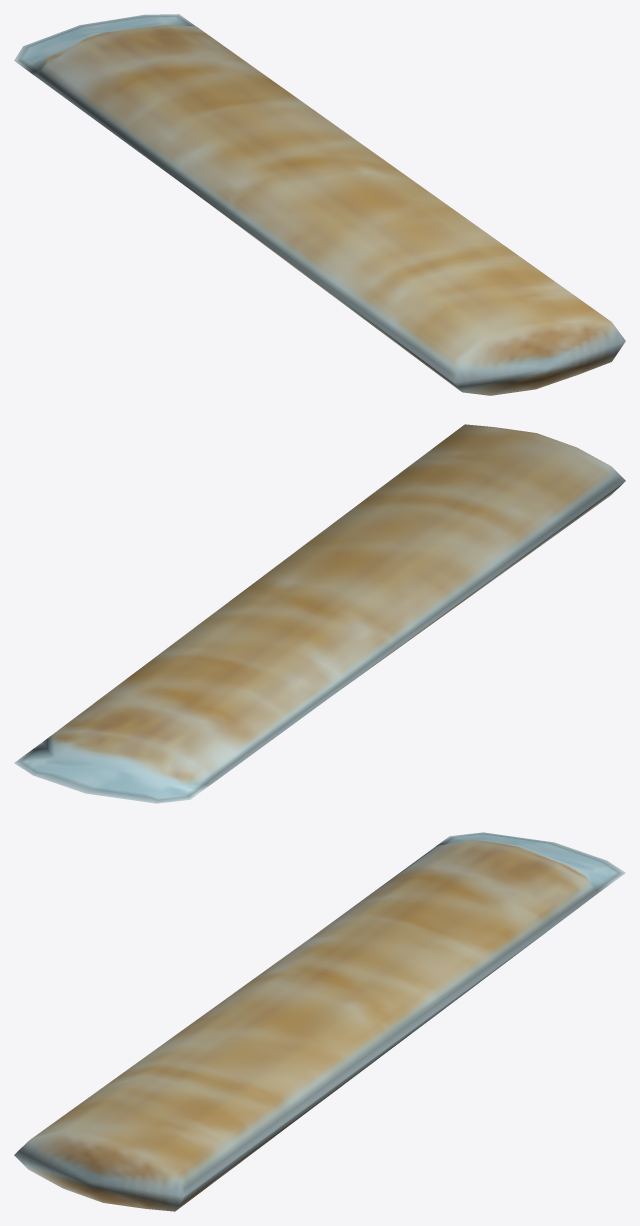
File: jsf_Elasticcord_Set.fbx
3 views of the same model, one above another, from view 1: azimuth 30°, elevation 25°; view 2: azimuth 150°, elevation 25°; view 3: azimuth 330°, elevation 25° (orthographic).
Visible parts, largest first — view 1: jsf_Elasticcord_Set; view 2: jsf_Elasticcord_Set; view 3: jsf_Elasticcord_Set.
Boxes of the visible parts, x1=… form: jsf_Elasticcord_Set: x1=14, y1=14, x2=625, y2=395; jsf_Elasticcord_Set: x1=14, y1=424, x2=625, y2=803; jsf_Elasticcord_Set: x1=14, y1=832, x2=625, y2=1211.
Bounding box in the file's own units: 5.67 × 1.93 × 26.76.
